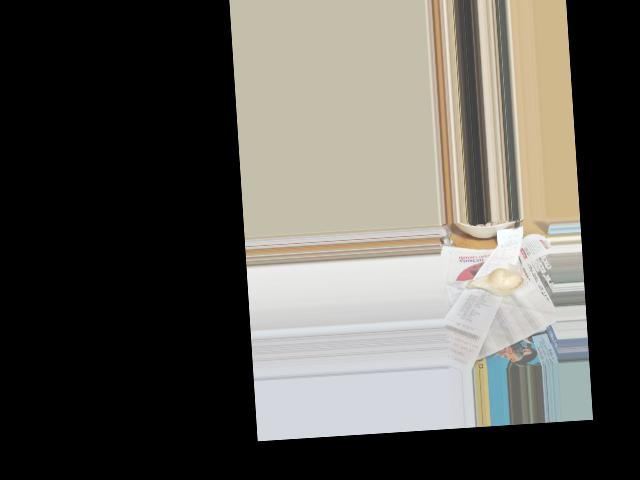onion: (469, 264, 523, 298)
